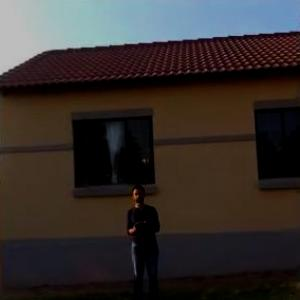follow: (122, 182, 168, 299)
